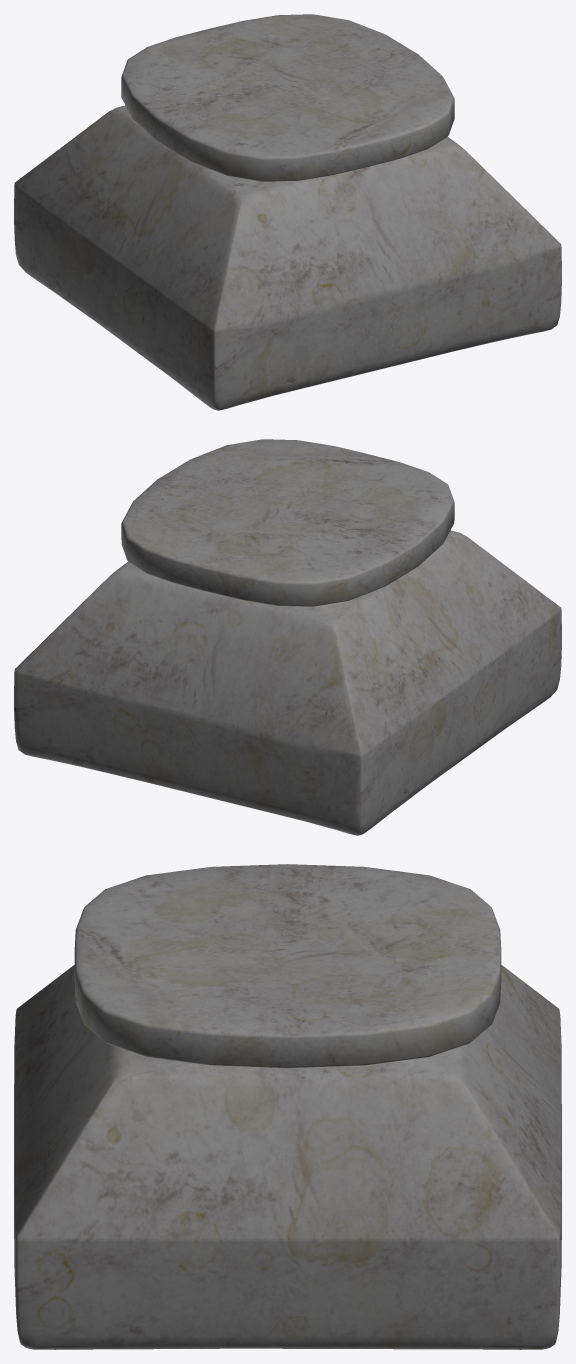
File: Plinth.fbx
The picture shows the model from 3 angles, top to bottom: view 1: azimuth 30°, elevation 25°; view 2: azimuth 150°, elevation 25°; view 3: azimuth 270°, elevation 25°; orthographic projection. The views are drawn at different scales.
Parts seen in each view (by area): view 1: PlinthL; view 2: PlinthL; view 3: PlinthL.
Boxes of the visible parts, <box> form: PlinthL: <box>14,14,561,410</box>; PlinthL: <box>14,439,561,835</box>; PlinthL: <box>14,864,561,1349</box>.
Size of the model in its own units: 73.49 by 43.82 by 73.51.
